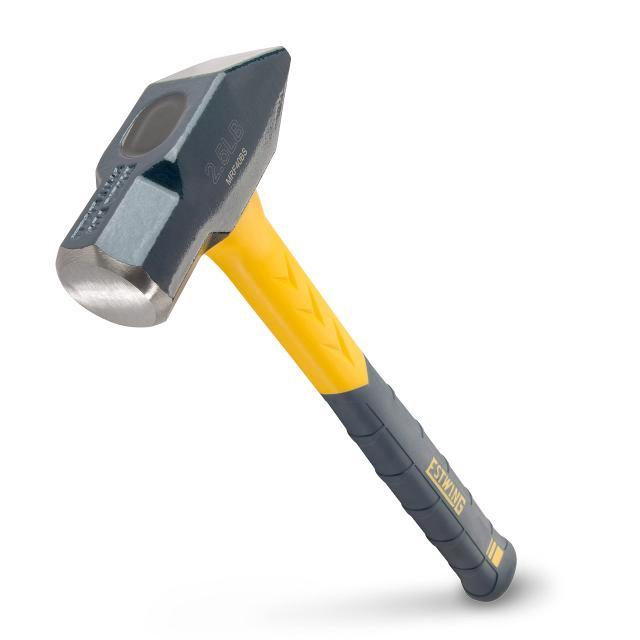hammer: (47, 40, 524, 611)
